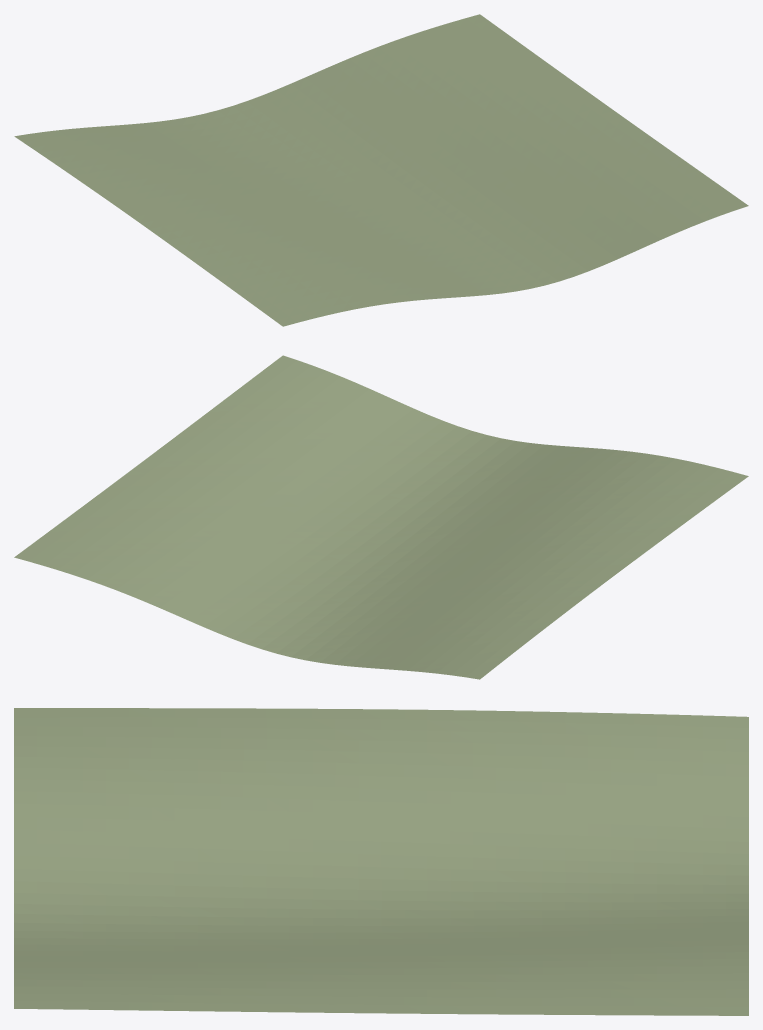
The model's file is desert-12-19.glb.
3 views of the same model, one above another, from view 1: azimuth 30°, elevation 25°; view 2: azimuth 150°, elevation 25°; view 3: azimuth 270°, elevation 25° (orthographic). The views are drawn at different scales.
Visible parts, largest first — view 1: desert-12-19; view 2: desert-12-19; view 3: desert-12-19.
Boxes of the visible parts, x1,y1,x2,y2 form: desert-12-19: [14, 14, 748, 326]; desert-12-19: [14, 355, 748, 679]; desert-12-19: [14, 708, 748, 1015].
Size of the model in its own units: 512 by 39.34 by 512.
